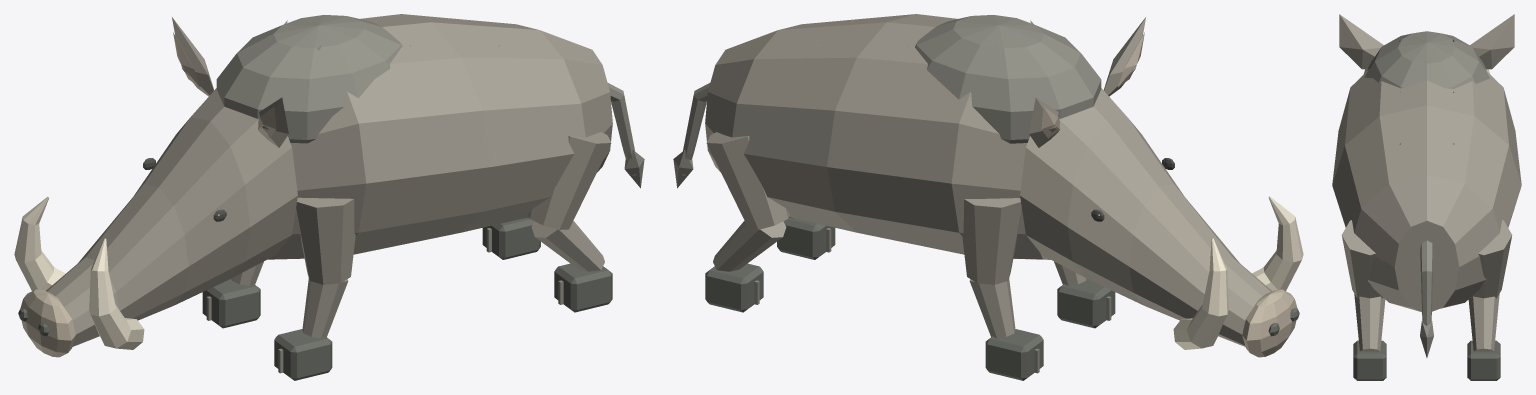
The model's file is boar.glb.
3 renders of one model, left to right at view 1: azimuth 30°, elevation 25°; view 2: azimuth 150°, elevation 25°; view 3: azimuth 270°, elevation 25°, orthographic. The views are drawn at different scales.
Visible parts, largest first — view 1: Barrel, Sloping_Wedge_Head, Withers, foreL_Upper, hindL_Upper, Curved_Tusk_-1, Broad_Snout, foreL_Hoof, Curved_Tusk_1, hindL_Hoof, foreR_Hoof, hindL_Shin (+5 smaller); view 2: Barrel, Sloping_Wedge_Head, Withers, foreR_Upper, hindR_Upper, Curved_Tusk_1, Broad_Snout, foreR_Hoof, Curved_Tusk_-1, hindR_Hoof, foreL_Hoof, hindR_Shin (+5 smaller); view 3: Barrel, Withers, hindR_Upper, hindL_Upper, hindL_Shin, hindR_Shin, ear-1_Outer, ear1_Outer, hindL_Hoof, hindR_Hoof, Tail, Tail_Tuft.
Boxes of the visible parts, x1,y1,x2,y2 form: Barrel: (267,14,612,259); Sloping_Wedge_Head: (46,88,297,346); Withers: (216,15,402,143); foreL_Upper: (296,197,355,284); hindL_Upper: (528,132,611,229); Curved_Tusk_-1: (89,238,144,349); Broad_Snout: (20,289,75,357); foreL_Hoof: (274,329,332,380); Curved_Tusk_1: (14,196,65,290); hindL_Hoof: (554,263,612,312); foreR_Hoof: (202,279,260,328); hindL_Shin: (531,221,604,271); Barrel: (705,14,1050,259); Sloping_Wedge_Head: (1020,88,1271,346); Withers: (915,15,1101,143); foreR_Upper: (962,198,1021,284); hindR_Upper: (706,132,789,229); Curved_Tusk_1: (1173,238,1228,349); Broad_Snout: (1242,289,1297,357); foreR_Hoof: (985,329,1043,380); Curved_Tusk_-1: (1252,196,1303,290); hindR_Hoof: (705,263,763,312); foreL_Hoof: (1057,279,1115,328); hindR_Shin: (713,221,786,271); Barrel: (1332,69,1521,312); Withers: (1364,31,1489,89); hindR_Upper: (1470,220,1512,298); hindL_Upper: (1341,220,1383,298); hindL_Shin: (1354,294,1385,351); hindR_Shin: (1468,294,1499,351); ear-1_Outer: (1339,14,1383,69); ear1_Outer: (1470,14,1514,69); hindL_Hoof: (1353,340,1386,380); hindR_Hoof: (1467,340,1500,380); Tail: (1420,240,1433,325); Tail_Tuft: (1420,320,1433,357).
Bounding box in the file's own units: 0.7129 × 0.34 × 0.24.
